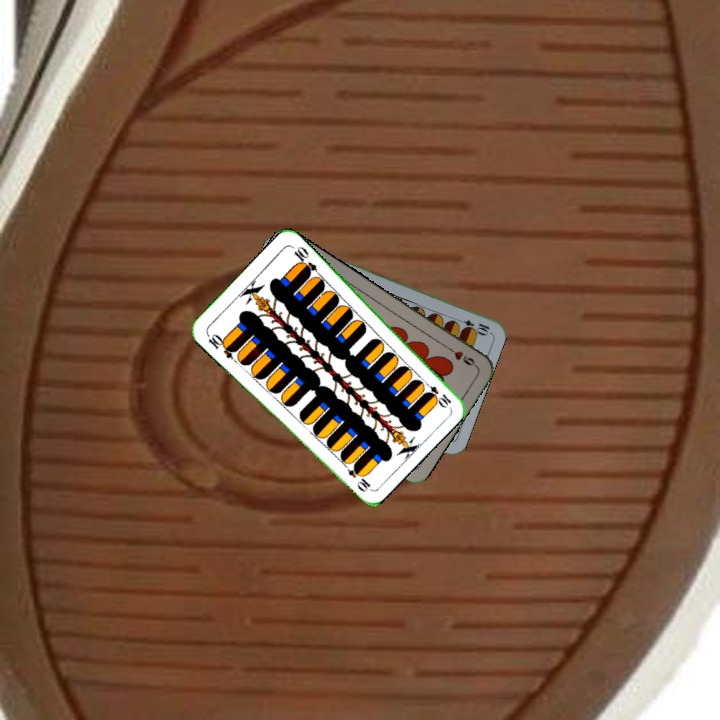E10: (419, 377, 454, 410), (202, 329, 238, 361), (452, 315, 492, 336)
H9: (443, 343, 479, 370)
